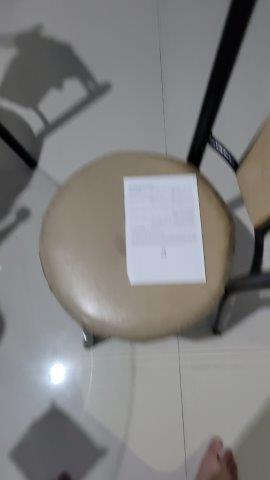kertas: (123, 175, 205, 286)
